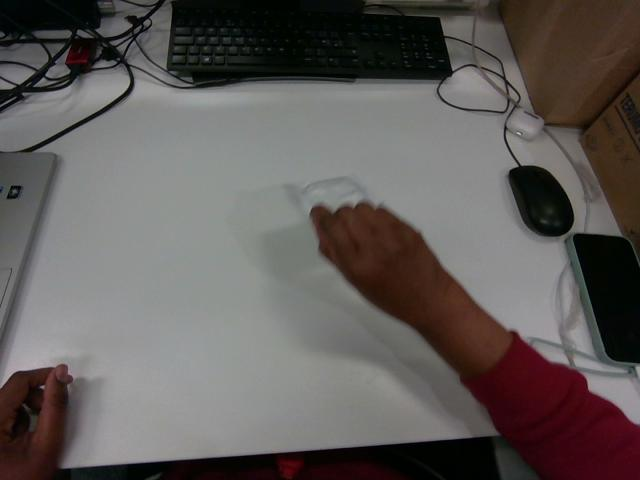gauze: (288, 176, 377, 214)
